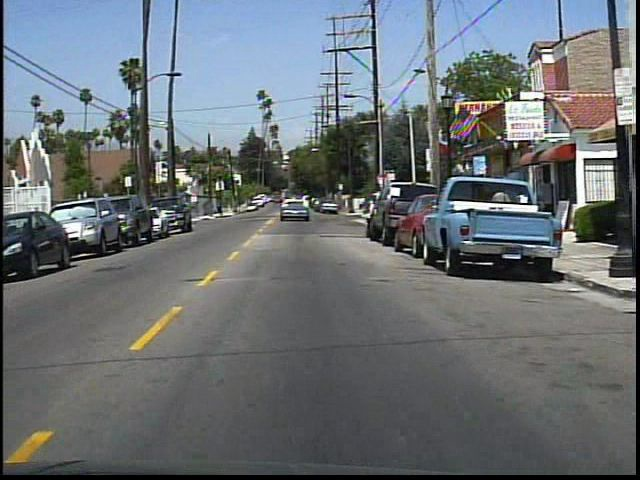person: (491, 182, 516, 234)
